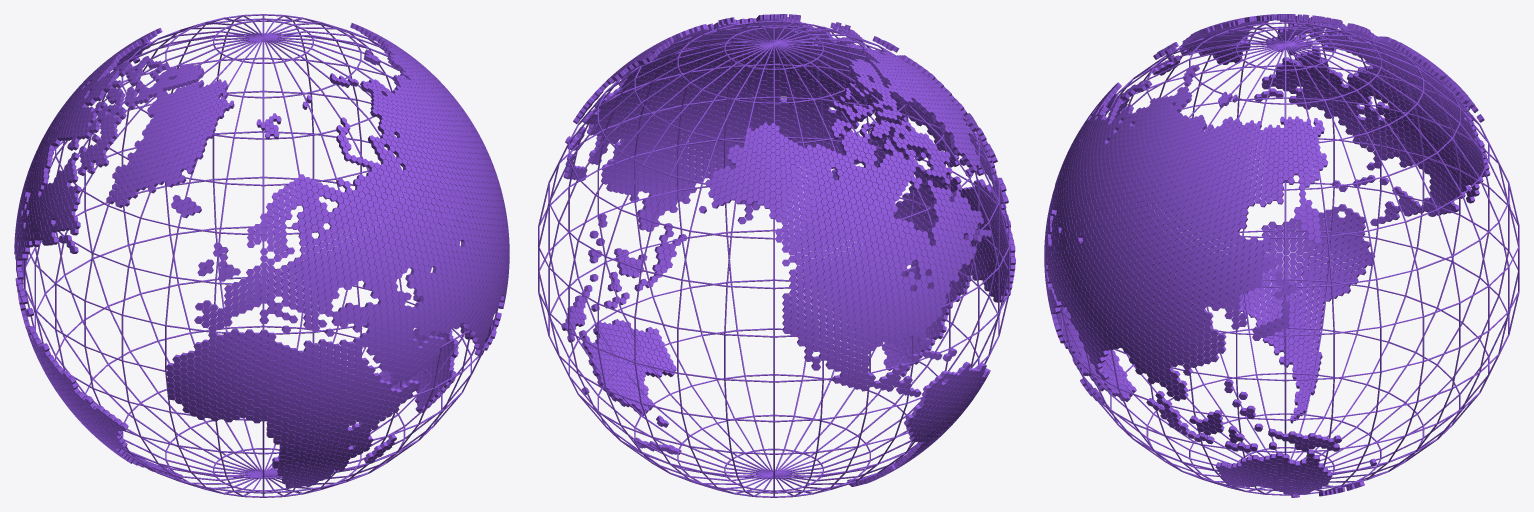
3 renders of one model, left to right at view 1: azimuth 30°, elevation 25°; view 2: azimuth 150°, elevation 25°; view 3: azimuth 270°, elevation 25°, orthographic. The views are drawn at different scales.
Visible parts, largest first — view 1: Null1, Sphere; view 2: Null1, Sphere; view 3: Null1, Sphere.
Boxes of the visible parts, x1,y1,x2,y2 form: Null1: (14,23,509,488); Sphere: (24,14,498,497); Null1: (561,14,1015,486); Sphere: (538,21,1009,497); Null1: (1044,14,1490,497); Sphere: (1056,22,1519,495).
Size of what is drawn, in the model's own units: 3010 by 2990 by 3001.
